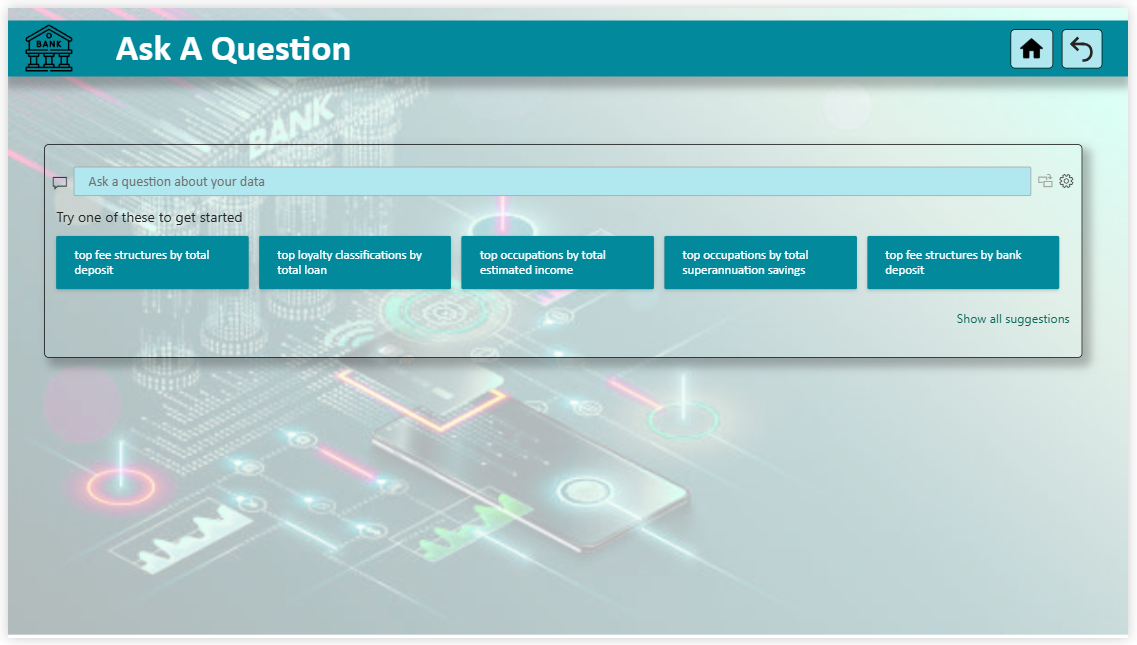

What the dashboard file says about the page in this screenshot:
{"tool":"powerbi","page":{"name":"ASK A Question ","canvas":[1280,720],"ordinal":4},"visuals":[{"type":"qnaVisual","box":[41.2,156.2,1186.2,243.8],"z":0},{"type":"textbox","box":[0,13.8,1280,63.8],"z":1000},{"type":"image","box":[0,13.8,93.8,63.8],"z":2000},{"type":"actionButton","box":[1203.8,23.8,46.2,45],"z":3000},{"type":"image","box":[1146,23.6,48.5,44.7],"z":4000}]}

Visuals, with their boxes in screenshot pixels (x1, y1, x2, y2), scaled from the page's 1280x720 canvas onto the 1137x645 screenshot:
qnaVisual: <bbox>37, 140, 1090, 358</bbox>
textbox: <bbox>0, 12, 1136, 70</bbox>
image: <bbox>0, 12, 83, 70</bbox>
actionButton: <bbox>1069, 21, 1110, 62</bbox>
image: <bbox>1018, 21, 1061, 61</bbox>
